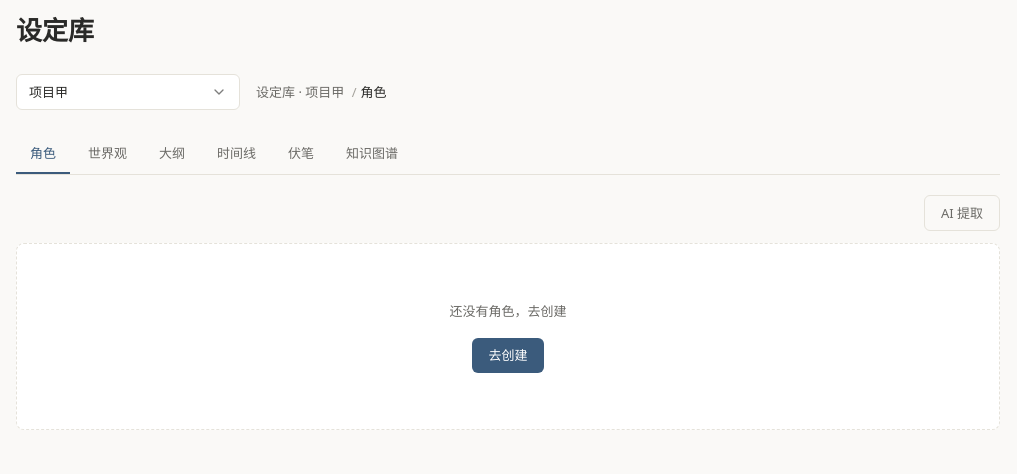
it: 设定库页 — 世界观条目页四处（#1375） › ② 待注册 chip 参与筛选：点「文化」→ aria-pressed 置位 + 树过滤到该类别条目
Click the tab "世界观": [108, 154] box x1=74 y1=134 x2=141 y2=174
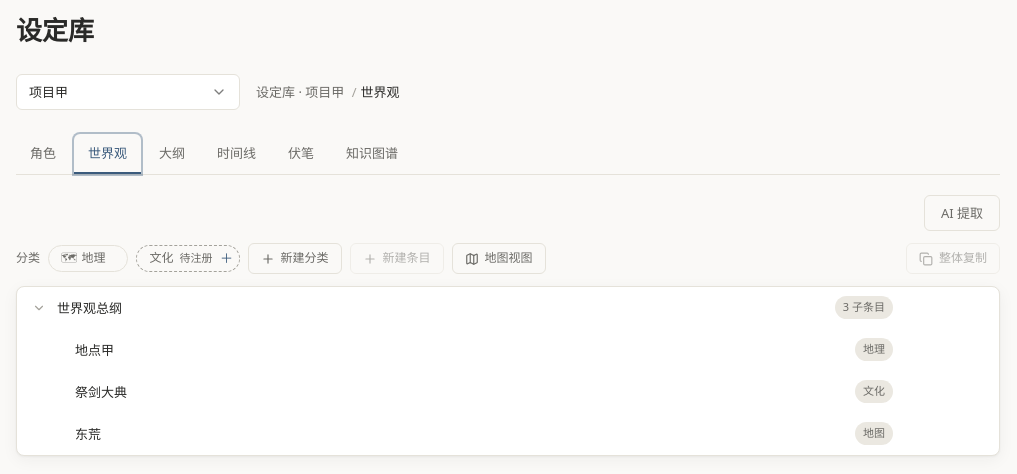
Check: the element with test id "library-list" is shown, box x1=16 y1=286 x2=1000 y2=456
Click the button with test id "world-cat-filter-文化": [162, 259] box x1=150 y1=248 x2=174 y2=269
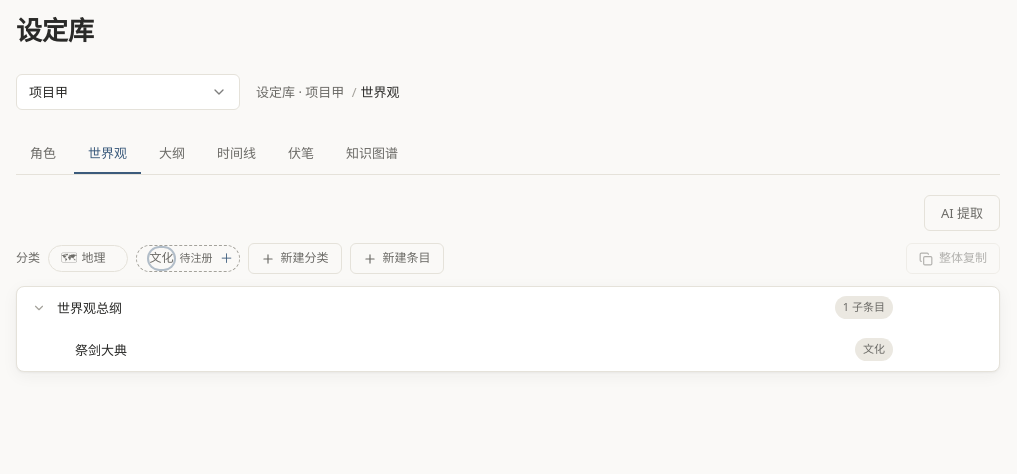
Check: the element with test id "library-list" shows "祭剑大典", box x1=75 y1=341 x2=127 y2=359
Check: the element with test id "library-list" no longer shows "地点甲", box x1=16 y1=286 x2=1000 y2=372
